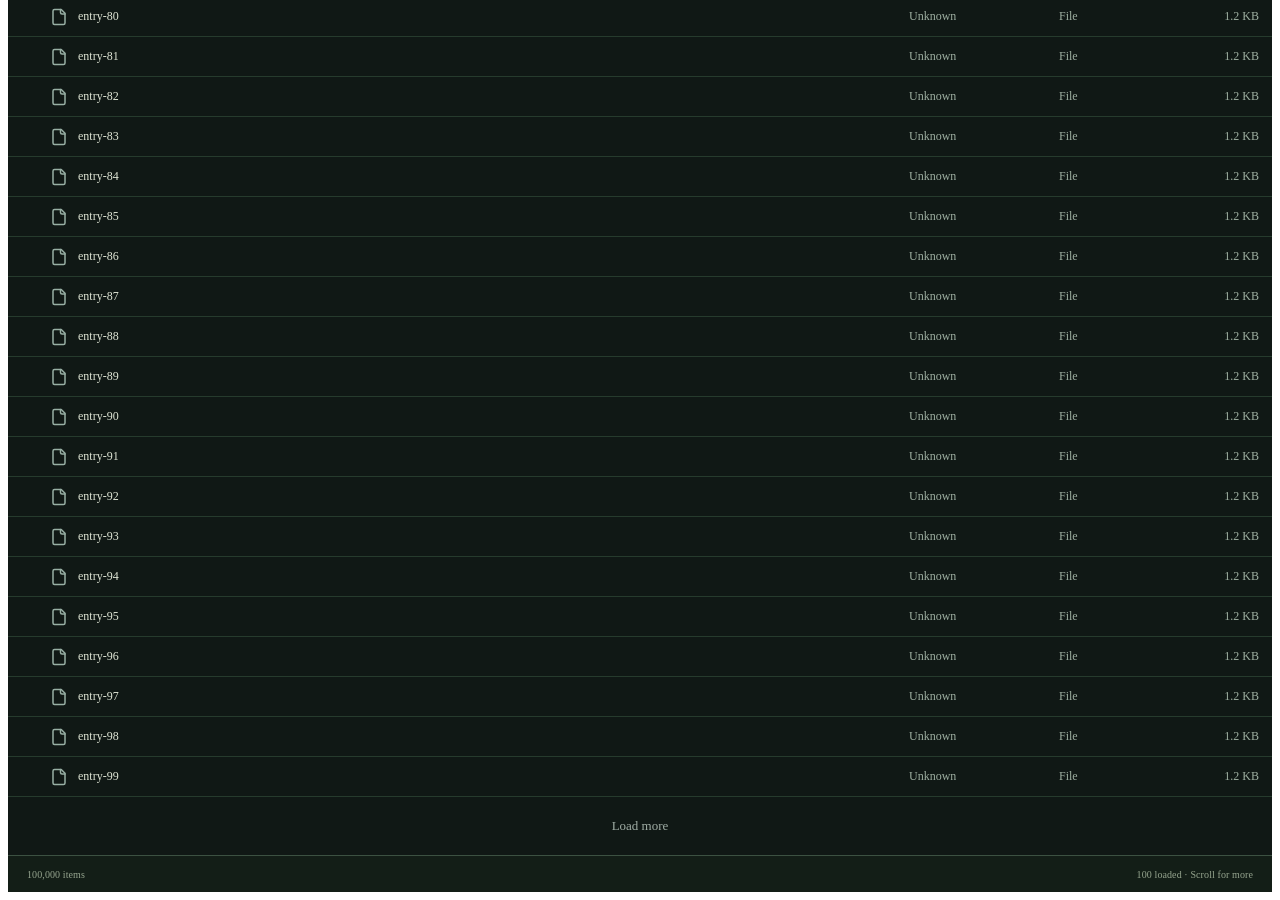
Test: Files browser request isolation › appends directory batches without removing earlier entries
(page scrolled)
Expected: the text "entry-99" is shown, x1=78 y1=769 x2=119 y2=784
Click the button "Load more".
click(640, 826)  # box x1=8 y1=805 x2=1272 y2=847
(page scrolled)
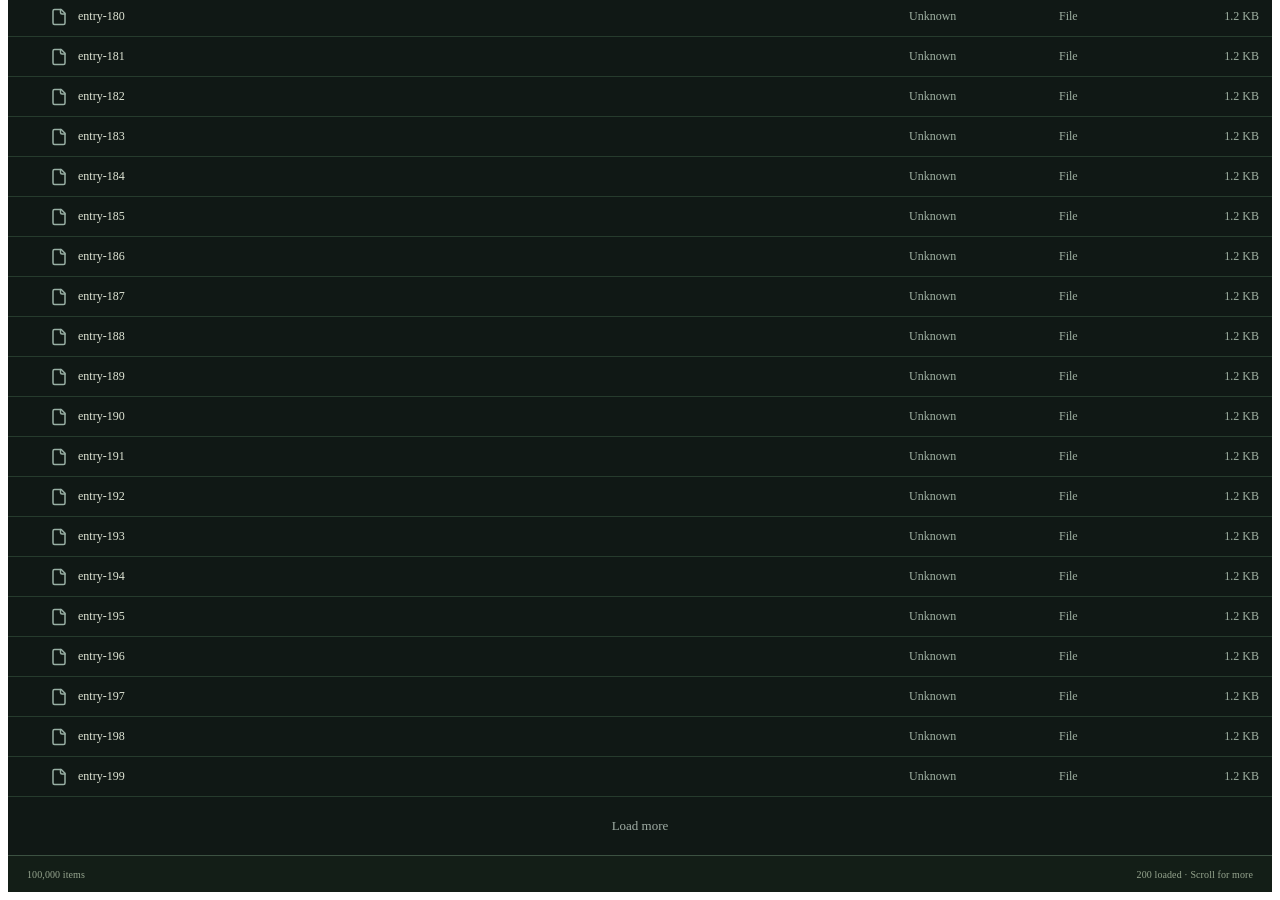
Expected: the text "entry-199" is shown, x1=78 y1=769 x2=125 y2=784
Expected: the text "200 loaded · Scroll for more" is shown, x1=1137 y1=868 x2=1253 y2=880
